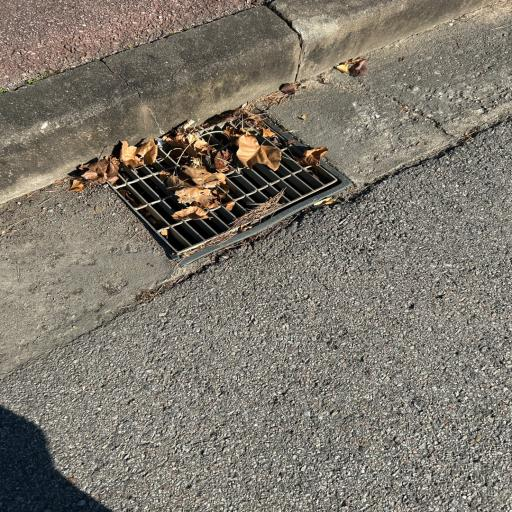debris: (160, 124, 231, 220), (221, 109, 283, 169), (94, 145, 157, 186), (230, 192, 281, 229), (296, 153, 319, 166), (146, 206, 160, 219), (225, 199, 233, 210), (160, 228, 167, 235)
drain: (93, 108, 343, 256)
